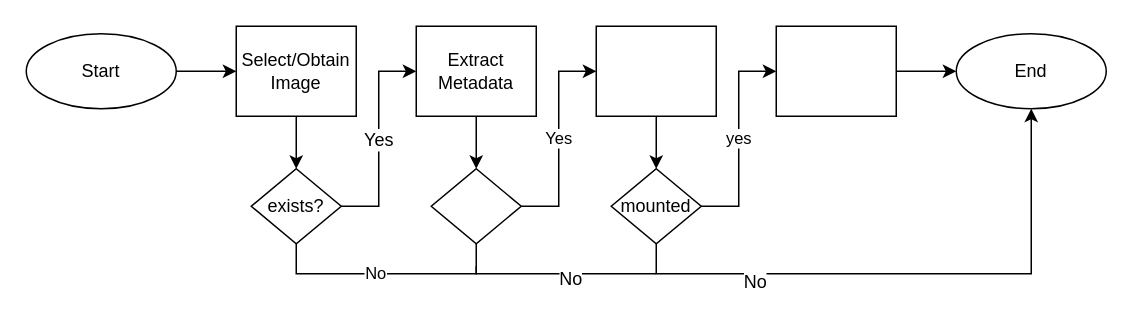
Image size: 1133x318. Some labels were removed from this diagram. Here are the shapes that lost their labels. From the top down, the centre of each, then its label:
At [655,70]: "Mount Image".
At [835,70]: "Scan and return results".
At [475,205]: "scan?".
